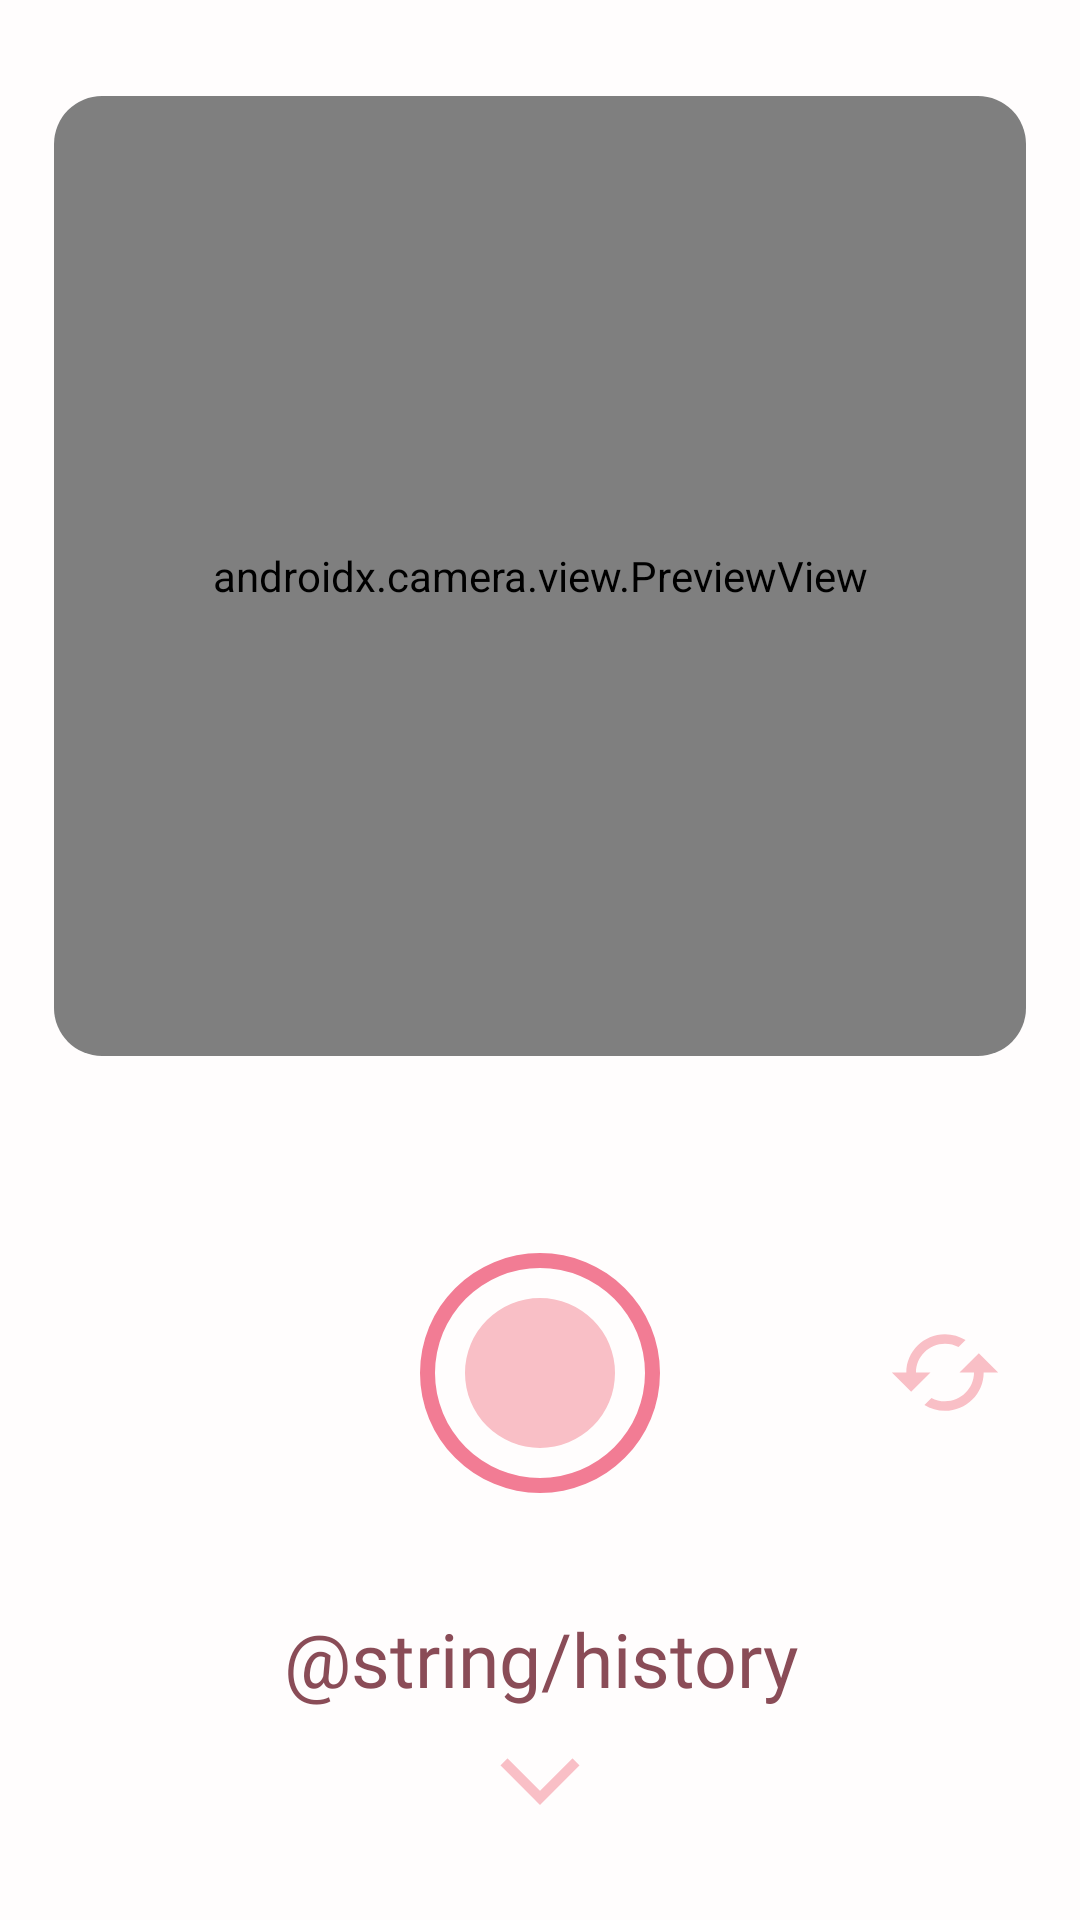

Icon bounding boxes for this 1080px x 1920px phone screenshot, format box=[x1, y1, x2, y2]:
reverse: box=[892, 1334, 998, 1411]
